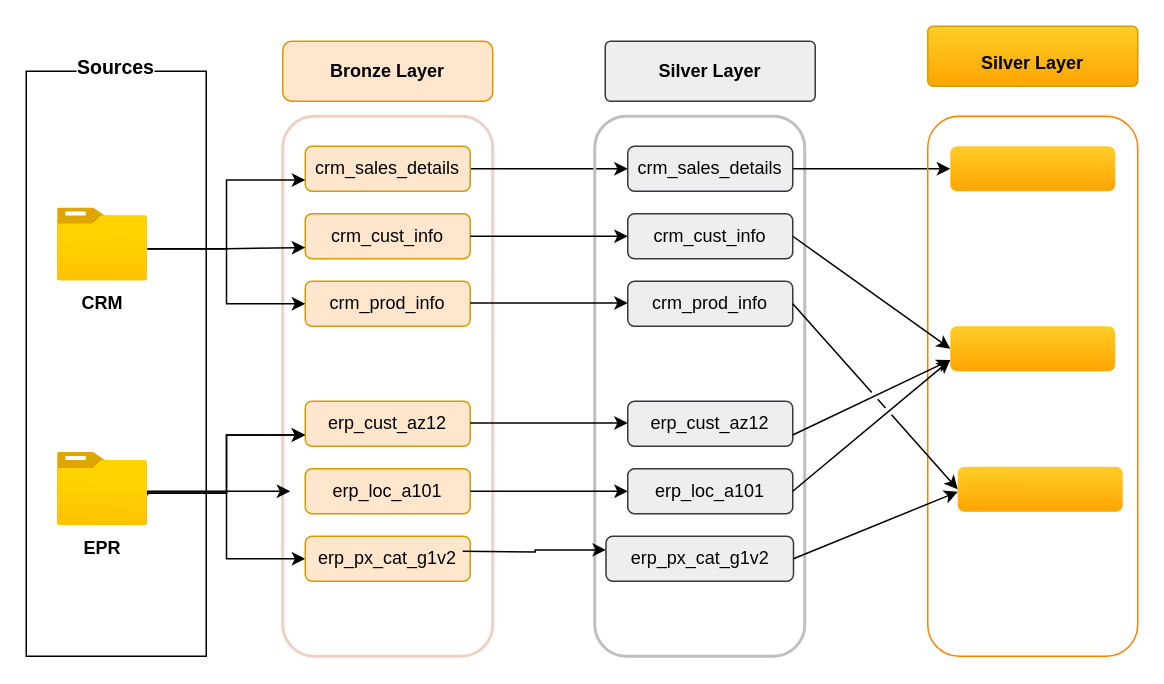
The diagram is 1164 pixels wide and 684 high, and some of its shapes have lost their labels. The box of each missing label's shape, as (x1, y1, x2, y2) in pixels:
dim_customers: (950, 326, 1114, 370)
dim_products: (957, 466, 1122, 511)
fact_sales: (950, 146, 1114, 190)
